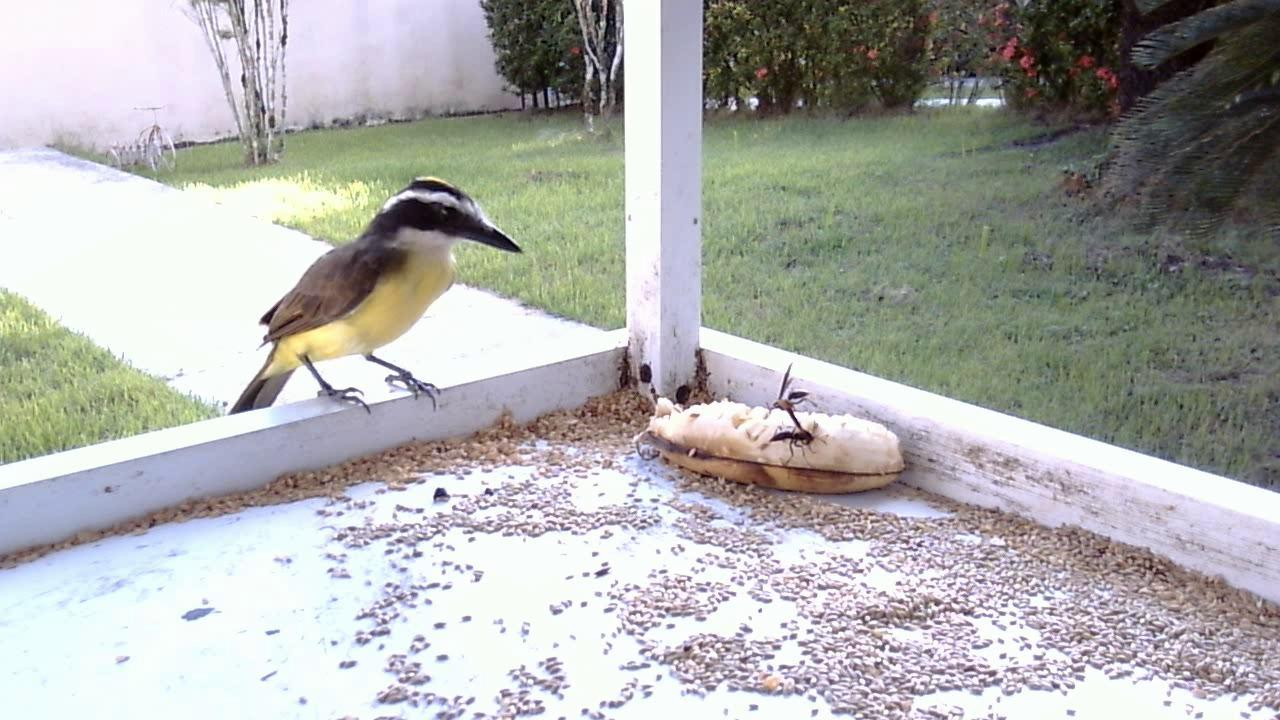bem_te_vi: (212, 165, 529, 434)
